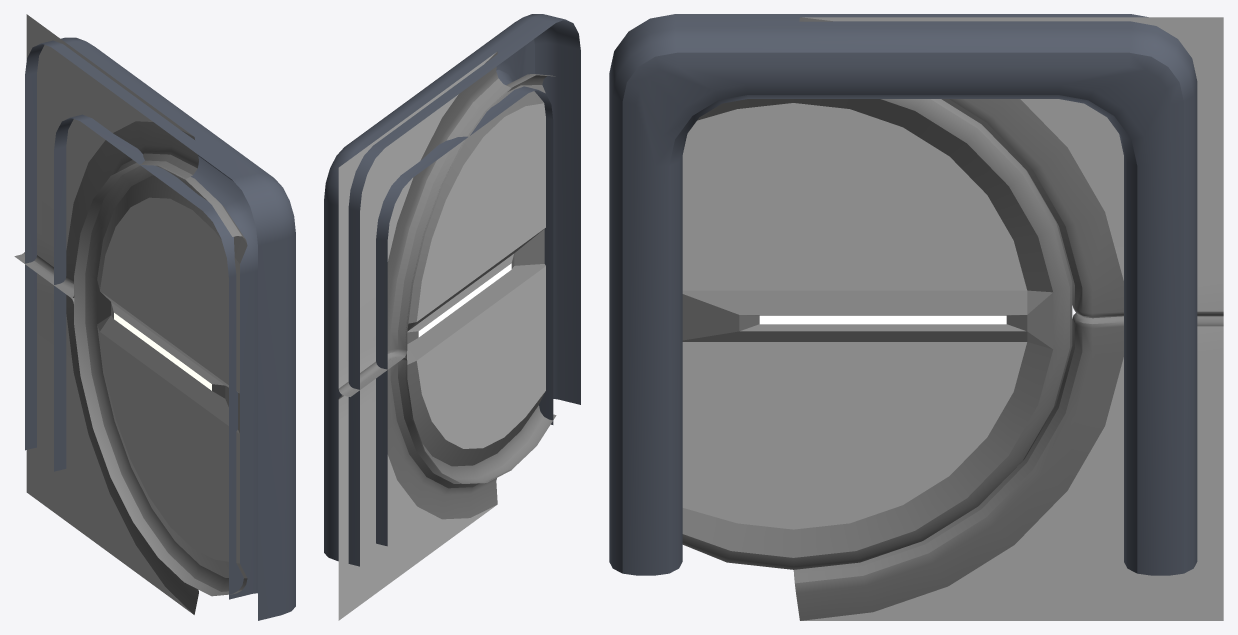
Rendered from Lift_Hall_Door_Group_01.fbx.
3 renders of one model, left to right at view 1: azimuth 30°, elevation 25°; view 2: azimuth 150°, elevation 25°; view 3: azimuth 270°, elevation 25°, orthographic. The views are drawn at different scales.
Visible parts, largest first — view 1: Door_01, Door_Frame, Door_02, Door_03; view 2: Door_01, Door_Frame, Door_02, Door_03; view 3: Door_01, Door_Frame, Door_03, Door_02.
Boxes of the visible parts, box(x1,y1,x2,y2) form: Door_01: box(74, 164, 247, 596); Door_Frame: box(25, 37, 295, 620); Door_02: box(14, 14, 198, 297); Door_03: box(16, 256, 198, 614); Door_01: box(405, 74, 556, 483); Door_Frame: box(324, 14, 580, 566); Door_02: box(338, 51, 511, 396); Door_03: box(338, 357, 511, 620); Door_01: box(682, 99, 1072, 569); Door_Frame: box(609, 14, 1197, 575); Door_03: box(793, 313, 1223, 620); Door_02: box(799, 17, 1223, 318).
Size of the model in its own units: 98.96 by 971 by 896.
